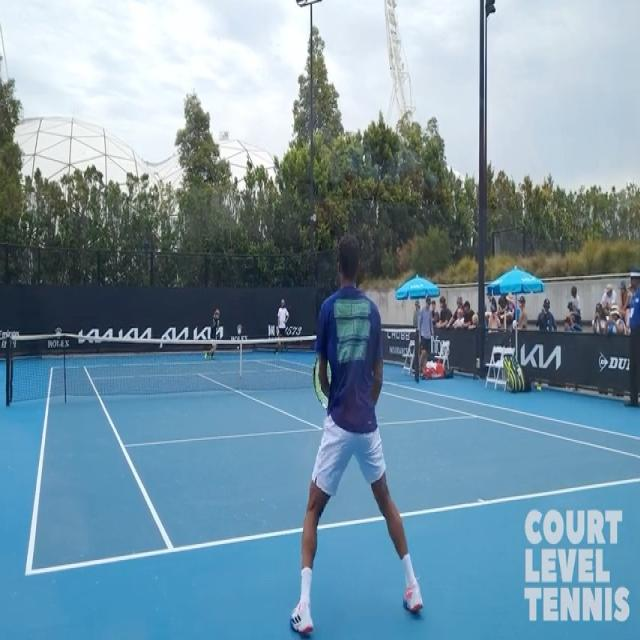ready-position: (288, 228, 425, 640)
